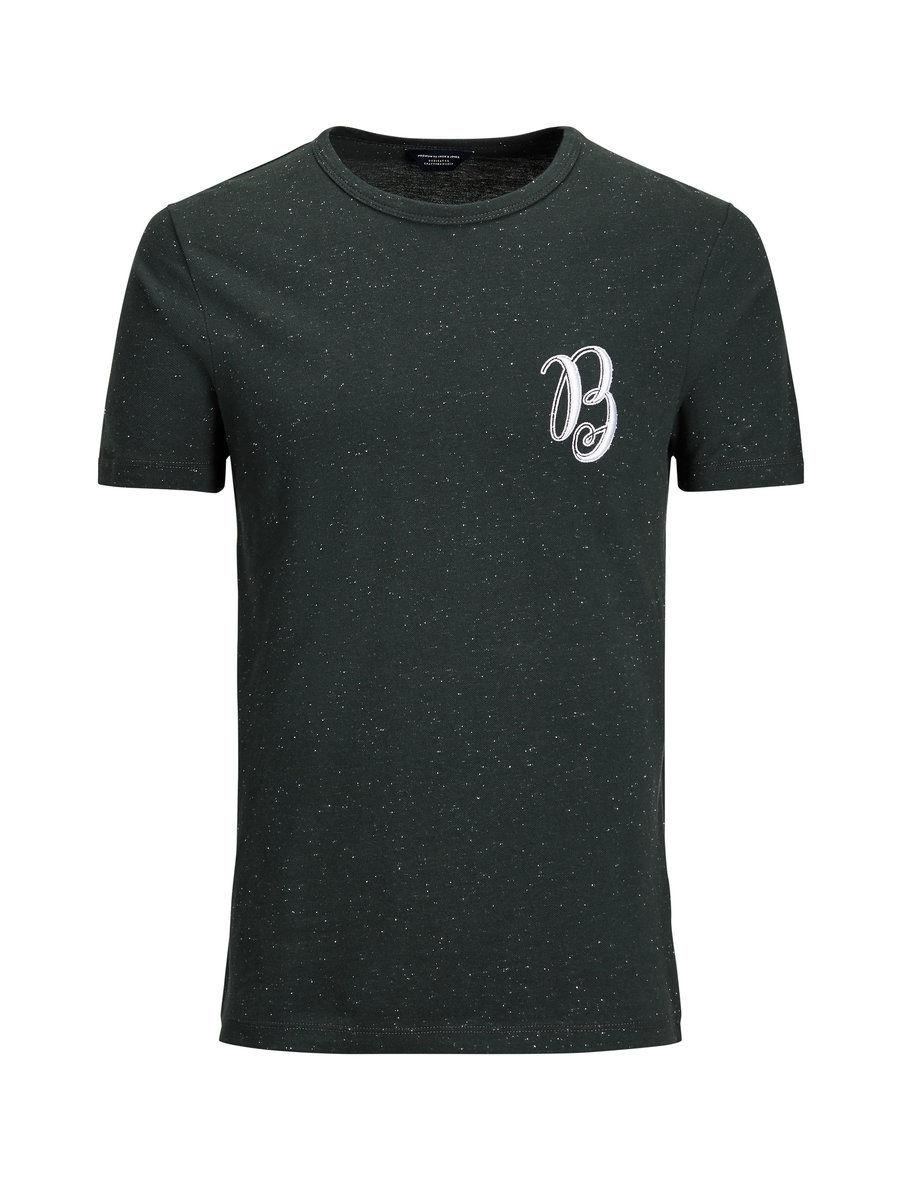teeshirt: (118, 105, 867, 1127)
